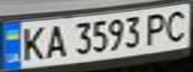3: (69, 19, 93, 56), (121, 12, 145, 48)
5: (90, 17, 112, 54)
9: (106, 16, 127, 52)
A: (42, 21, 69, 60)
C: (160, 7, 193, 43)
K: (15, 24, 48, 62)
P: (139, 10, 172, 46)
